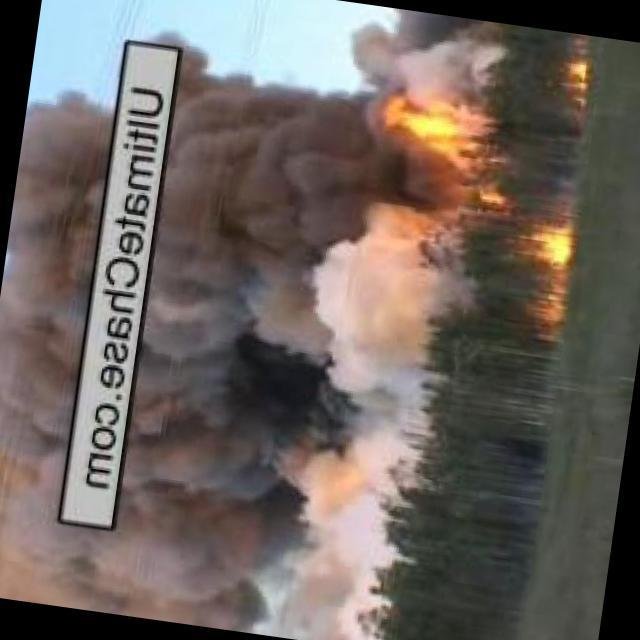Fire: (361, 91, 515, 210), (513, 219, 572, 267), (557, 62, 593, 97), (538, 297, 566, 329)
